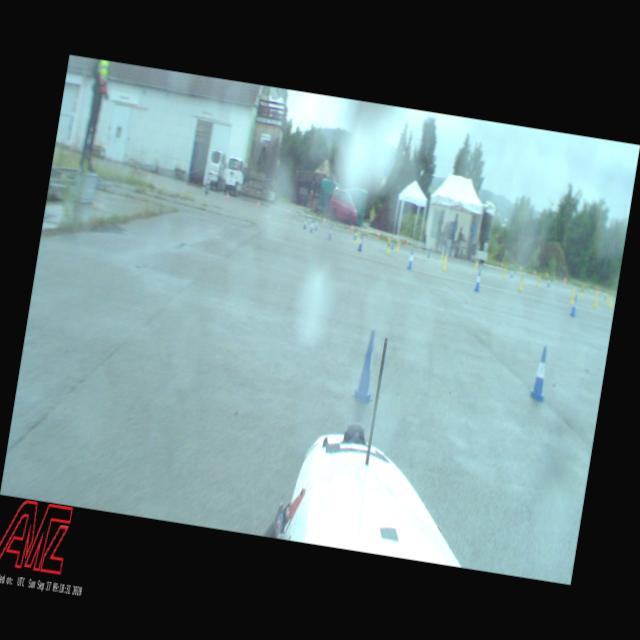blue_cone: (350, 328, 384, 405), (528, 346, 552, 402), (570, 294, 580, 318), (474, 270, 483, 292), (407, 249, 415, 270), (356, 232, 364, 252), (327, 223, 334, 241), (309, 218, 315, 234), (314, 216, 320, 230), (303, 216, 308, 228)
orange_cone: (376, 229, 381, 240), (322, 214, 326, 226), (286, 206, 290, 216), (256, 200, 260, 208), (226, 192, 230, 200), (351, 223, 354, 233)
yellow_cone: (386, 238, 392, 254)
